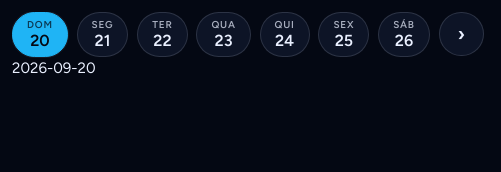
DateSelector › mostra 7 dias a partir do início e seleciona um dia da faixa
The image size is (501, 172).
Expected: the button with aria-label "26/09/2026" is shown, x1=378 y1=12 x2=430 y2=57
Click the button with aria-label "22/09/2026" at (162, 34), box x1=137 y1=12 x2=188 y2=57
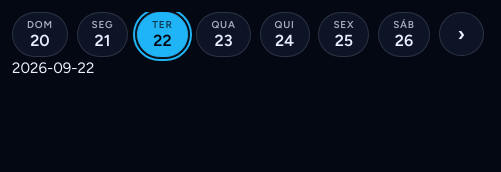
Expected: the text "2026-09-22" is shown, x1=12 y1=59 x2=94 y2=77
